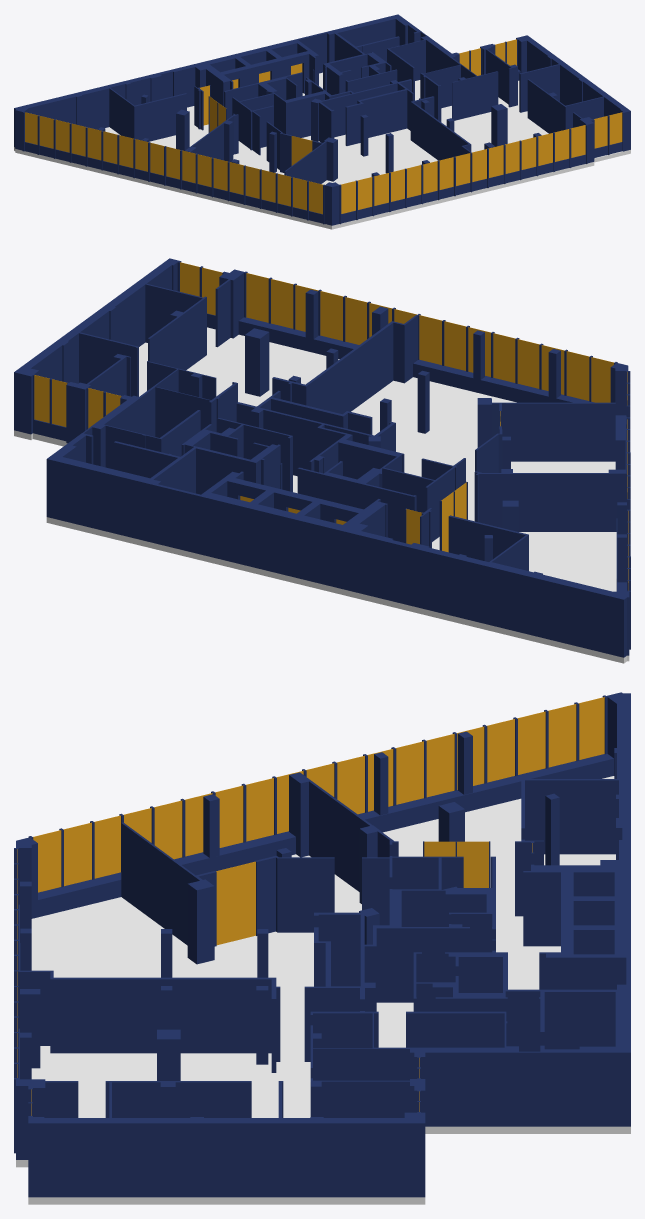
File: 1855B 3rd Floor.fbx
The picture shows the model from 3 angles, top to bottom: view 1: azimuth 30°, elevation 25°; view 2: azimuth 150°, elevation 25°; view 3: azimuth 270°, elevation 25°; orthographic projection. The views are drawn at different scales.
Parts seen in each view (by area): view 1: Walls, Interior Member, Object_185; view 2: Walls, Object_185, Interior Member; view 3: Walls, Object_185, Interior Member.
Part boxes in pixels (x1=…): Walls: x1=14, y1=14, x2=630, y2=225; Interior Member: x1=25, y1=39, x2=622, y2=214; Object_185: x1=14, y1=72, x2=630, y2=229; Walls: x1=14, y1=258, x2=630, y2=657; Object_185: x1=14, y1=327, x2=629, y2=663; Interior Member: x1=34, y1=262, x2=628, y2=590; Walls: x1=14, y1=692, x2=630, y2=1197; Object_185: x1=16, y1=776, x2=630, y2=1204; Interior Member: x1=17, y1=697, x2=604, y2=1115.
Bounding box in the file's own units: 1497 × 906 × 132.
